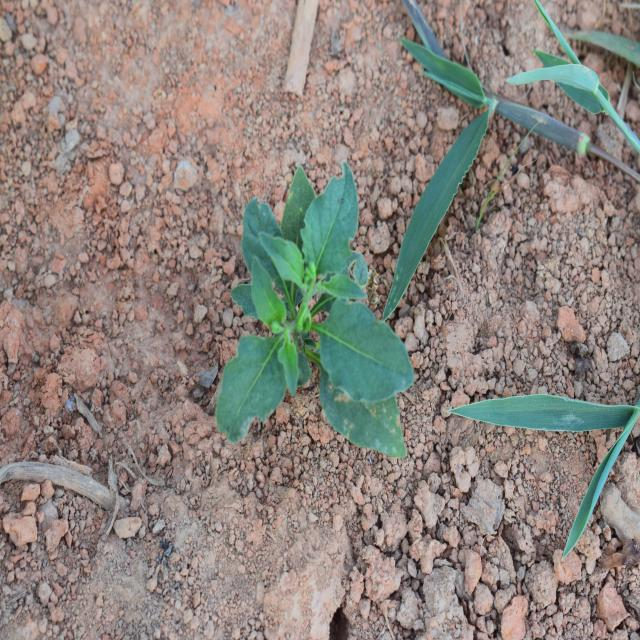Black_nightshade: (178, 120, 430, 464)
